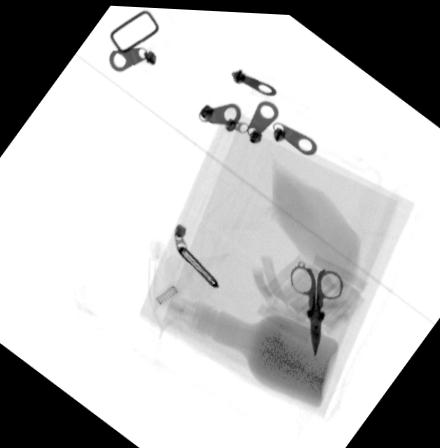Scissors: (286, 258, 341, 352)
